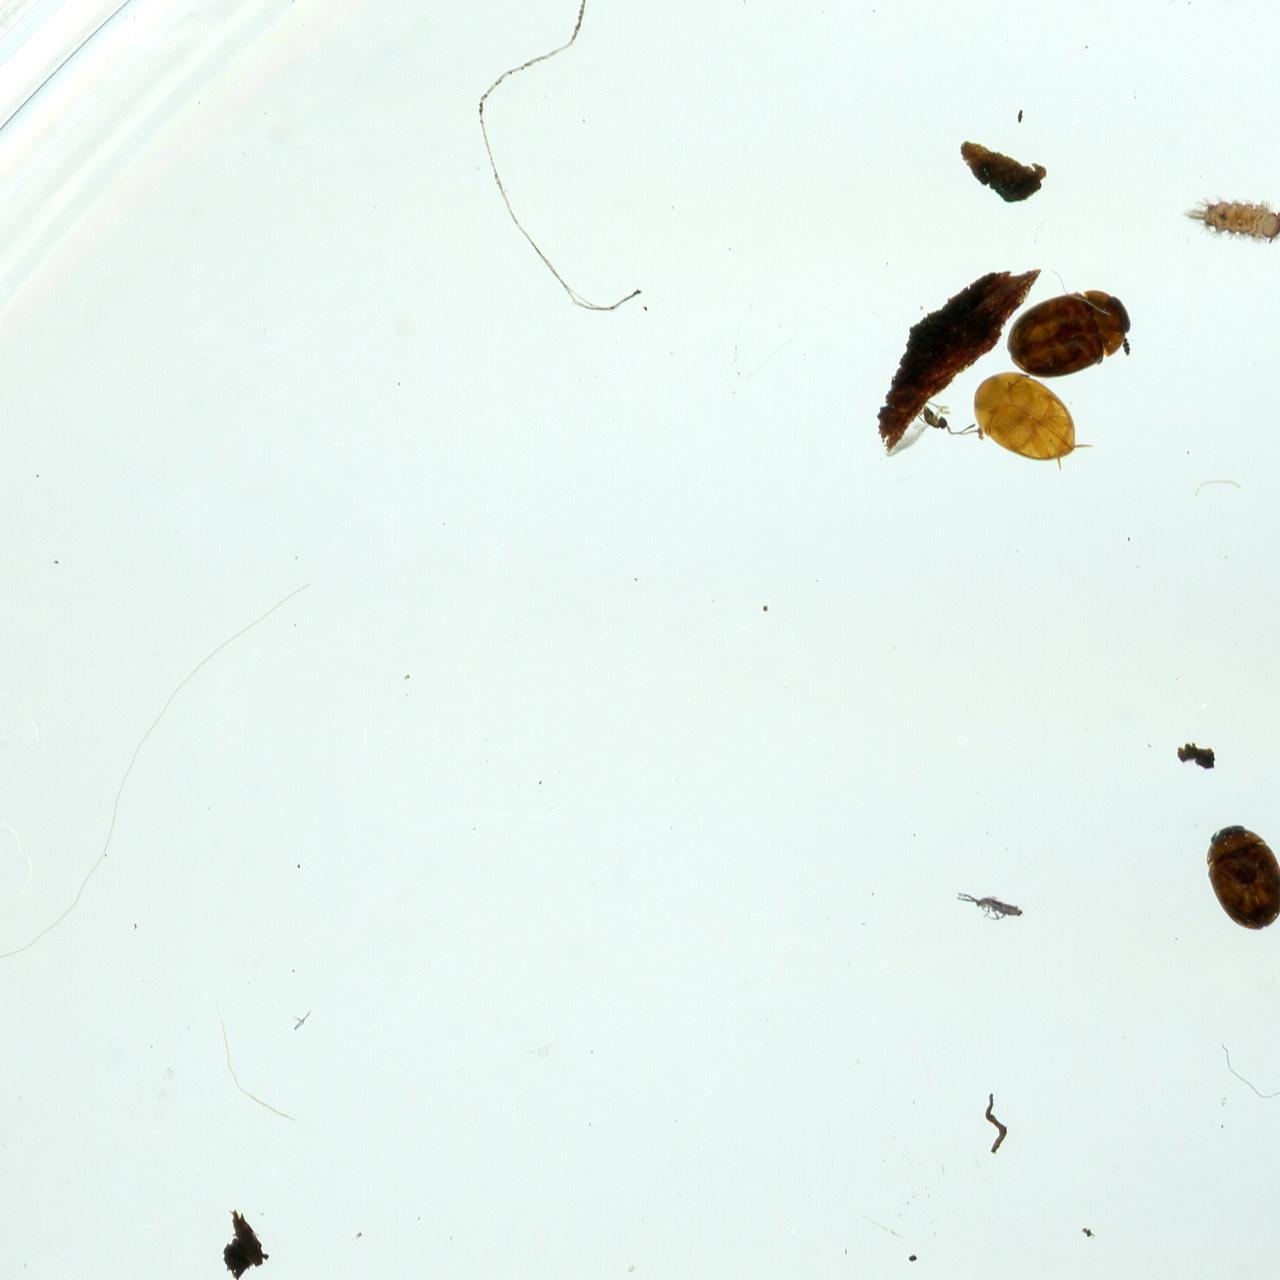arthropod: (971, 369, 1088, 472), (1005, 286, 1137, 368), (1203, 821, 1280, 935), (1179, 188, 1280, 246), (896, 403, 968, 461)
